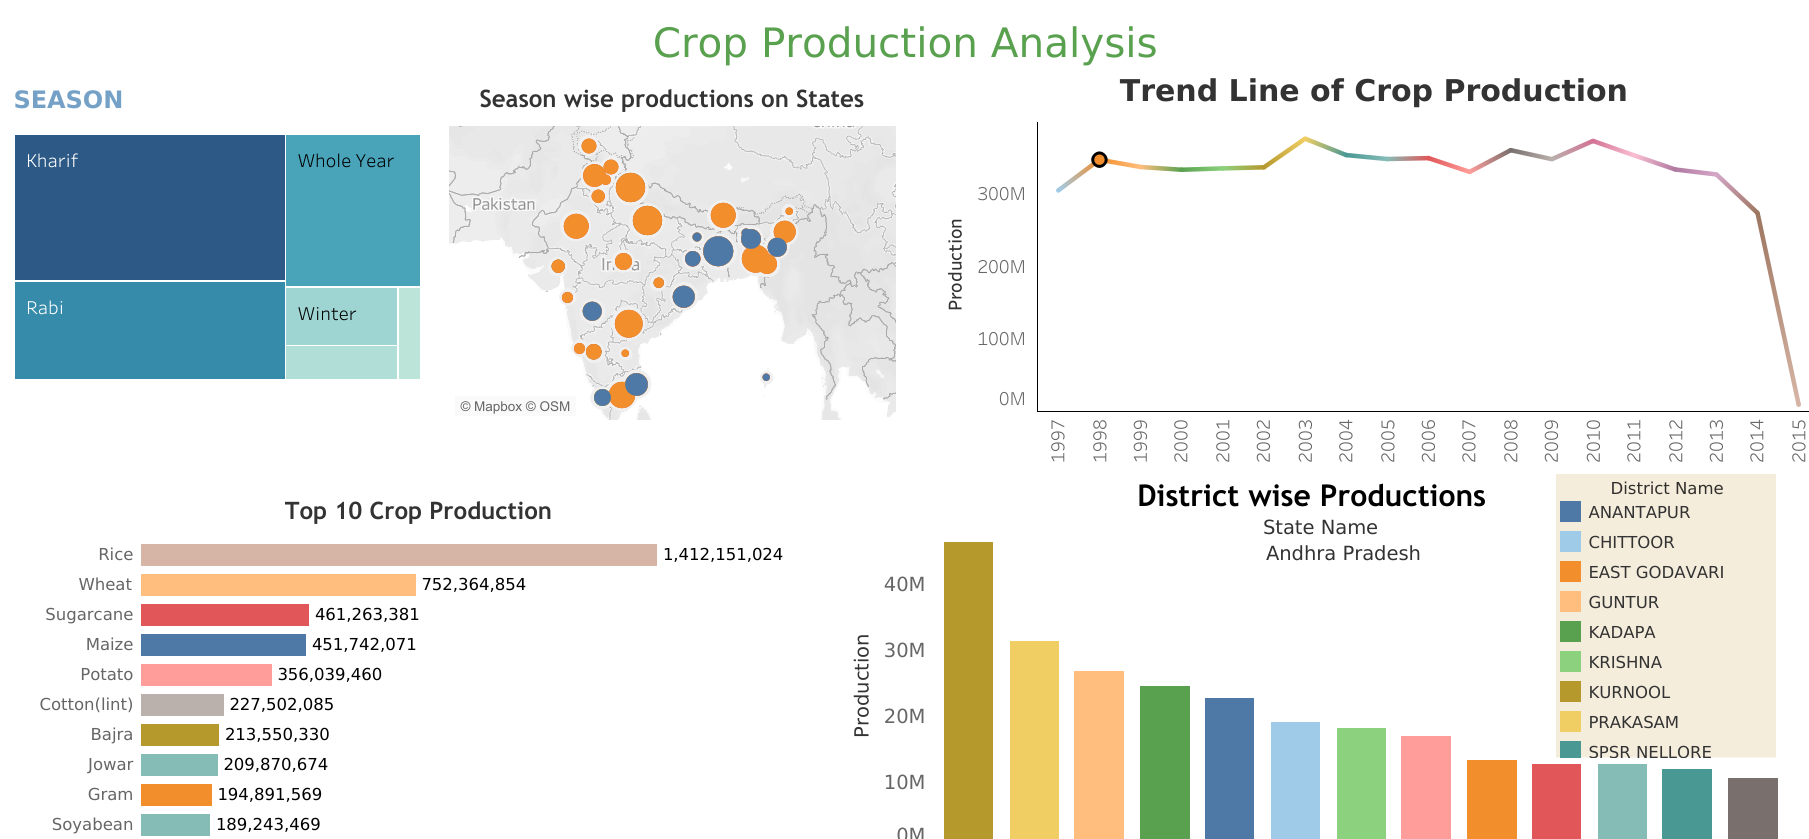

This screenshot's page, from the dashboard's own definition file:
{"tool":"tableau","page":{"name":"Dashboard 1","canvas":[1000,1000],"units":"permille","ordinal":0},"visuals":[{"type":"title","box":[5,9.8,990,67.2]},{"type":"worksheet","title":"Sheet 1","mark":"Line","rows":["Production"],"cols":["Crop_Year"],"box":[513.7,75.8,490.7,484.1]},{"type":"worksheet","title":"Sheet 3","mark":"Automatic","box":[248.1,88,246.9,412]},{"type":"worksheet","title":"Sheet 4","mark":"Automatic","box":[4.4,90.5,230.7,397.3]},{"type":"legend","title":"Sheet 5","param":"[federated.1pollbw1kuhnlb1aojalk0sin2q8].[none:District_Name:nk]","box":[859.1,564.8,122.2,336.2]},{"type":"worksheet","title":"Sheet 2","mark":"Bar","rows":["Crop"],"cols":["Production"],"box":[11.8,579.5,438.9,418.1]},{"type":"filter","title":"Sheet 5","param":"[federated.1pollbw1kuhnlb1aojalk0sin2q8].[none:State_Name:nk]","box":[697.6,611.2,147.8,81.9]}]}

Visuals, with their boxes on the dashboard's canvas, which has no fixed pixel size, in thousandths of its width and height (x1, y1, x2, y2). These are canvas units, not pixel positions in the 1809x839 screenshot, which may show the page scaled, cropped or inside an application window:
title: Rect(5, 10, 995, 77)
"Sheet 1" worksheet (Line marks): Rect(514, 76, 1004, 560)
"Sheet 3" worksheet: Rect(248, 88, 495, 500)
"Sheet 4" worksheet: Rect(4, 90, 235, 488)
"Sheet 5" legend: Rect(859, 565, 981, 901)
"Sheet 2" worksheet (Bar marks): Rect(12, 580, 451, 998)
"Sheet 5" filter: Rect(698, 611, 845, 693)
